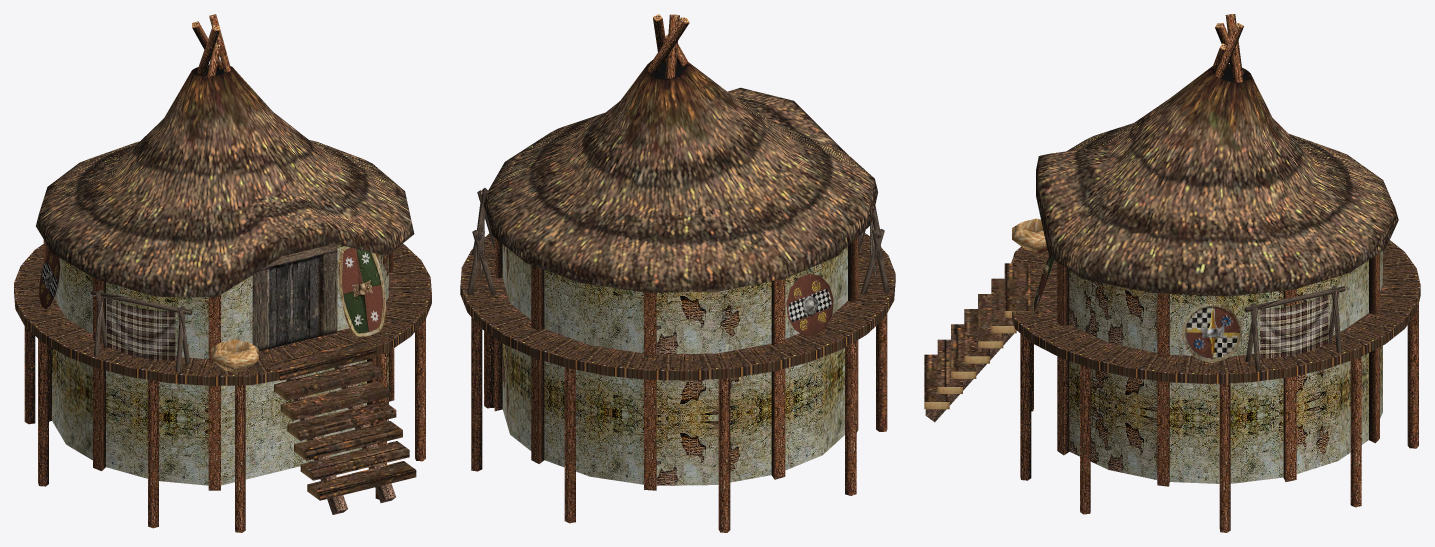
The model's file is casa_b.glb.
3 views of the same model, side by side, from view 1: azimuth 30°, elevation 25°; view 2: azimuth 150°, elevation 25°; view 3: azimuth 270°, elevation 25° (orthographic). The views are drawn at different scales.
Parts seen in each view (by area): view 1: Casa, Puerta, Detalles; view 2: Casa, Detalles; view 3: Casa, Detalles, Puerta.
Boxes of the visible parts, bbox=[...] form: Casa: bbox=[14, 14, 431, 532]; Puerta: bbox=[211, 244, 395, 514]; Detalles: bbox=[39, 246, 386, 372]; Casa: bbox=[460, 14, 895, 532]; Detalles: bbox=[467, 188, 889, 335]; Casa: bbox=[924, 14, 1420, 532]; Detalles: bbox=[1032, 232, 1345, 370]; Puerta: bbox=[925, 218, 1047, 422].
Size of the model in its own units: 4.95 by 5.5 by 5.83.
3 materials, 3 textured.
